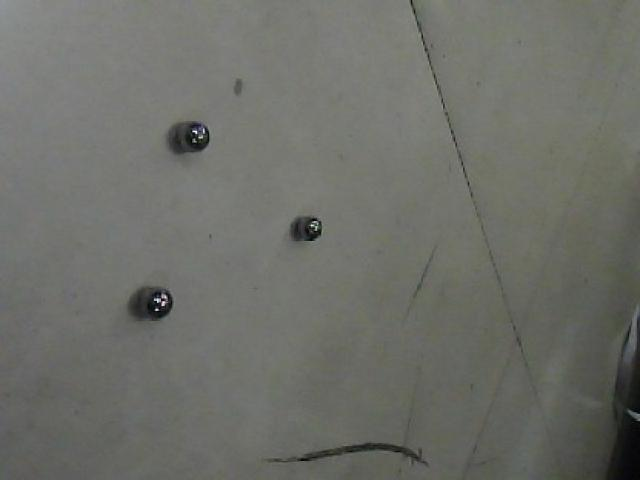steel-ball: (157, 98, 217, 174), (121, 266, 177, 329), (285, 195, 326, 248)
